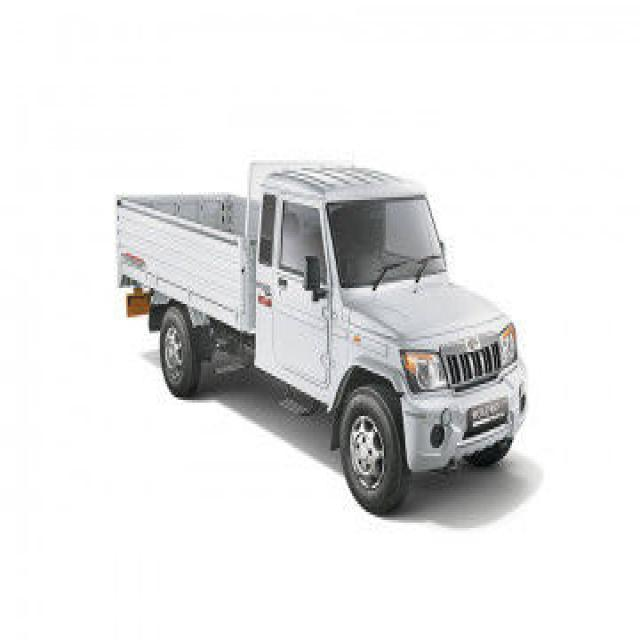light_vehicle: (116, 156, 530, 519)
